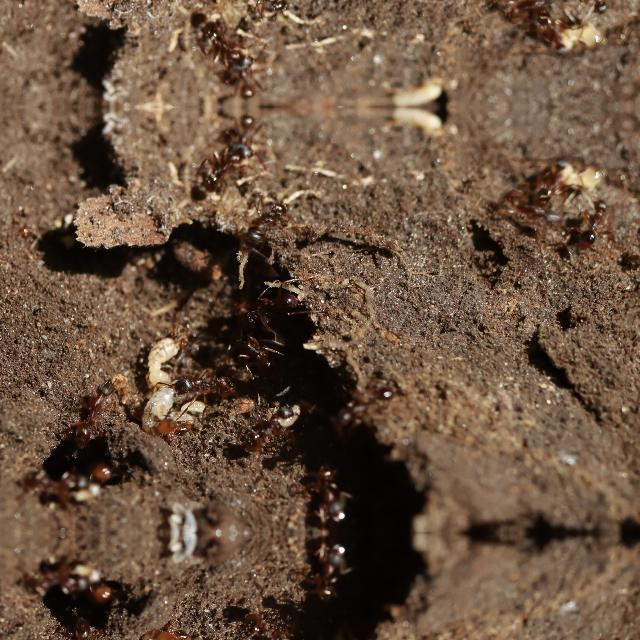Apheanogaster: (38, 452, 130, 506), (234, 397, 310, 461), (38, 560, 130, 612), (325, 376, 407, 432), (218, 280, 308, 330), (59, 377, 121, 447), (190, 19, 266, 76), (190, 136, 266, 192), (233, 192, 301, 252), (306, 461, 362, 527), (306, 538, 362, 604), (165, 367, 247, 403), (528, 152, 584, 204), (528, 8, 584, 60), (495, 192, 573, 228), (234, 604, 310, 640), (220, 106, 268, 160), (220, 52, 268, 106), (231, 330, 289, 374), (572, 193, 616, 249), (148, 412, 205, 444), (495, 0, 573, 20), (59, 618, 121, 640), (233, 0, 301, 20), (146, 620, 204, 640), (570, 0, 615, 18)
